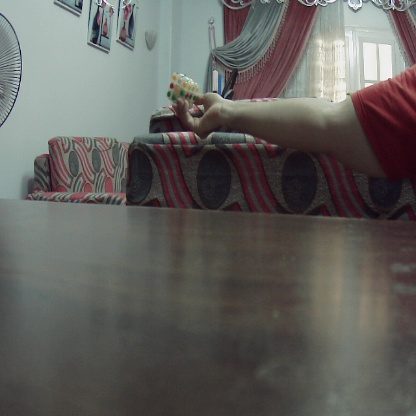Rubix Cube: (165, 74, 199, 107)
